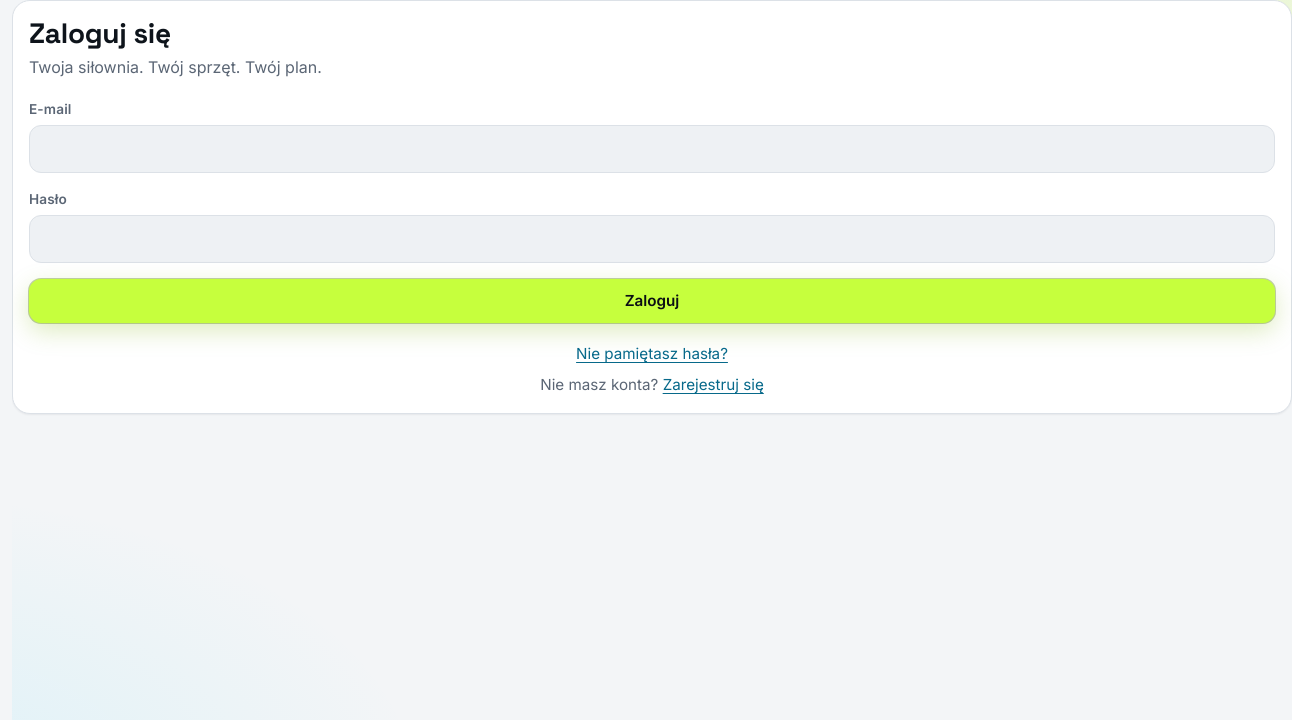
Test: LoginPage › logs in and navigates to the home page
In the field labelled "E-mail": (652, 149) [29,125,1275,173], type "anna@example.com"
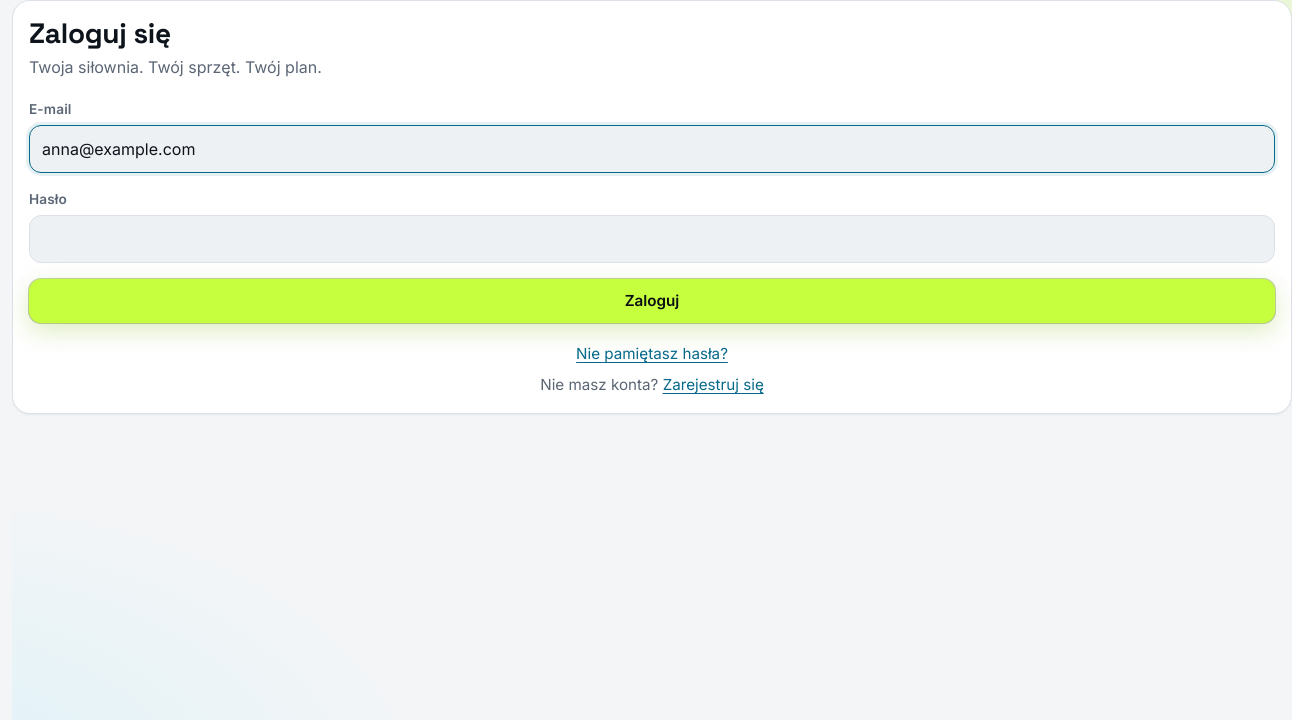
In the password field labelled "Hasło": (652, 239) [29,215,1275,263], type "Secret123"
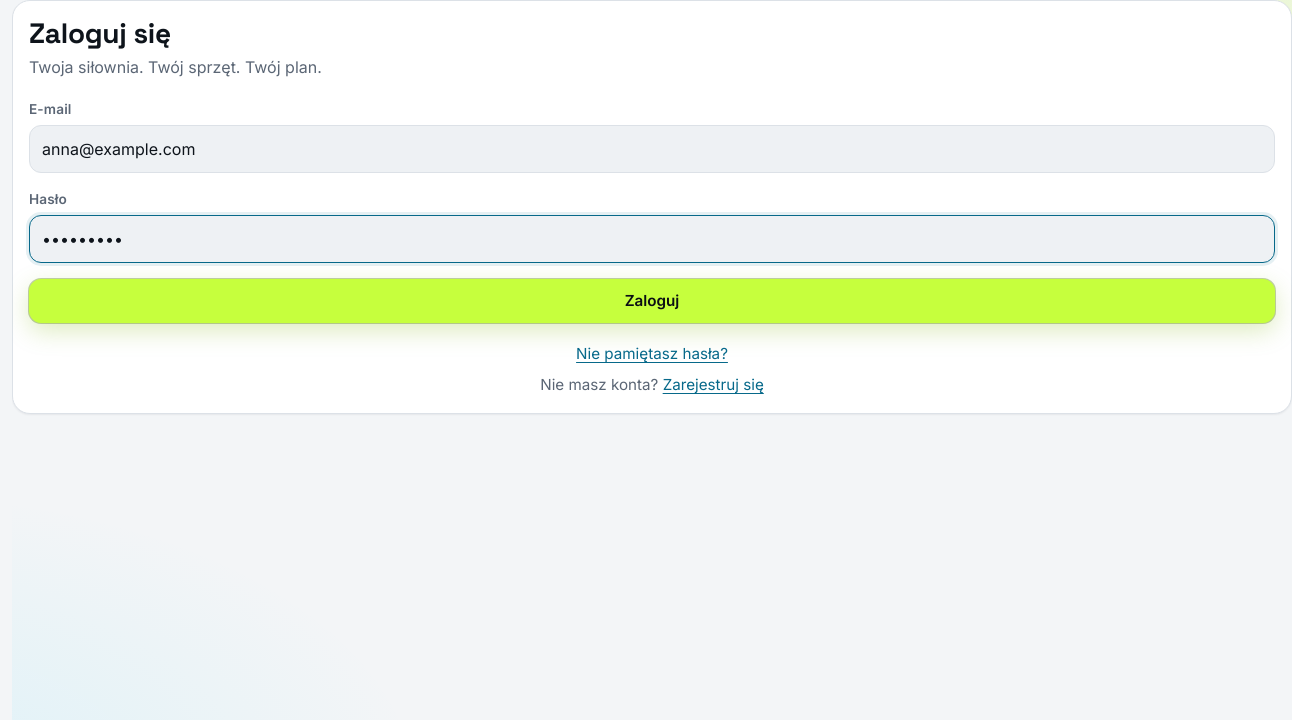
Click the button "Zaloguj": (652, 301) [29,279,1275,323]
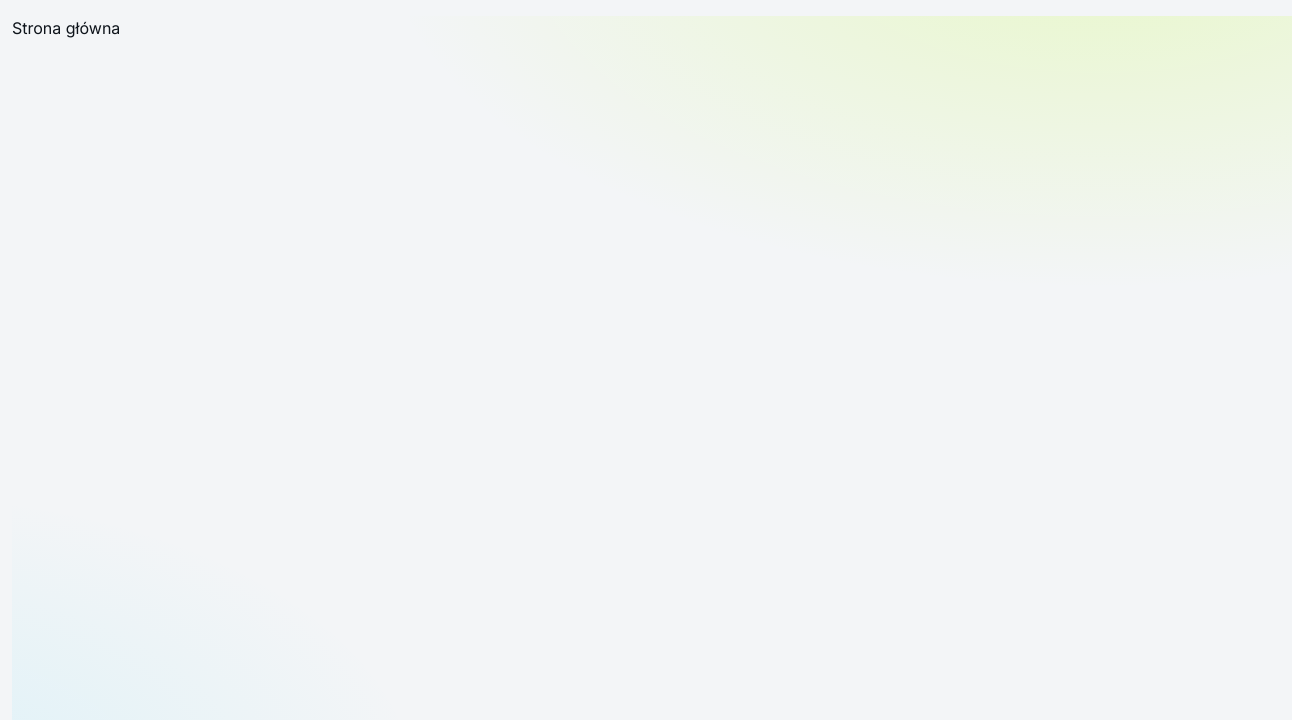
Now the text "Strona główna" is shown, box [12,18,120,38]
